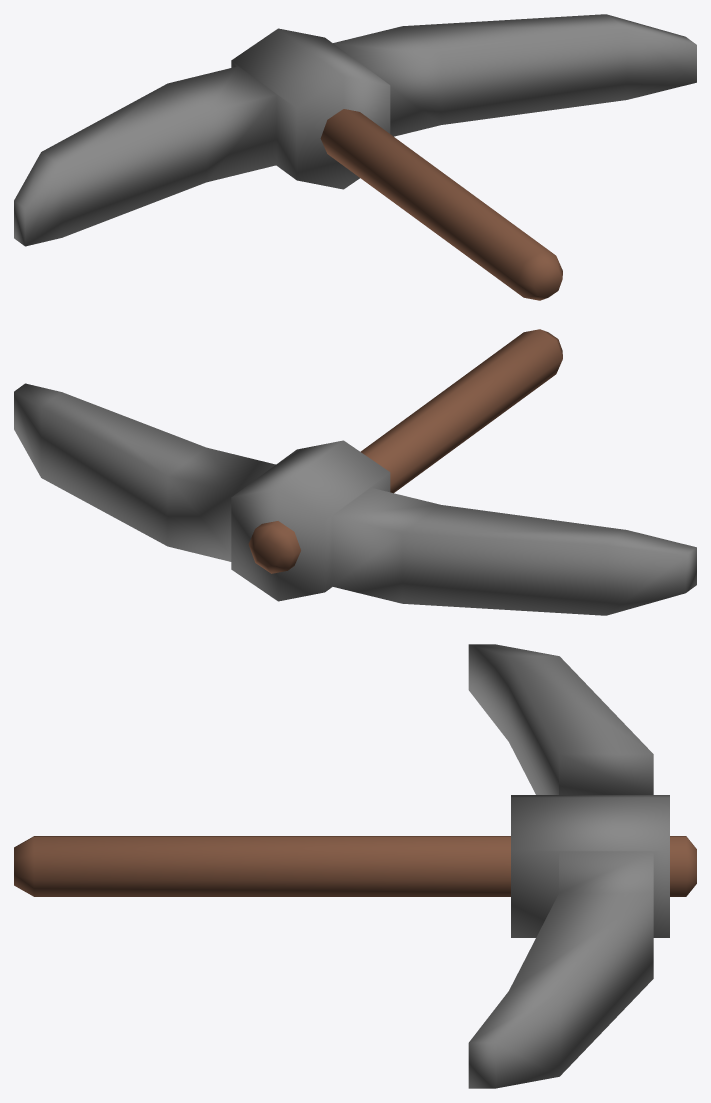
File: GiftPickaxe.fbx
3 views of the same model, one above another, from view 1: azimuth 30°, elevation 25°; view 2: azimuth 150°, elevation 25°; view 3: azimuth 270°, elevation 25° (orthographic). The views are drawn at different scales.
Parts seen in each view (by area): view 1: Picaxe; view 2: Picaxe; view 3: Picaxe.
Boxes of the visible parts, bbox=[...] form: Picaxe: bbox=[14, 14, 696, 300]; Picaxe: bbox=[14, 329, 696, 615]; Picaxe: bbox=[14, 644, 696, 1088].
Size of the model in its own units: 130 by 28.94 by 180.
1 material, 1 textured.
